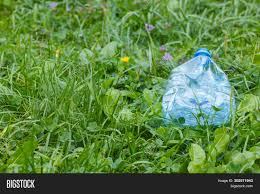plastic_bottle: (162, 48, 237, 132)
